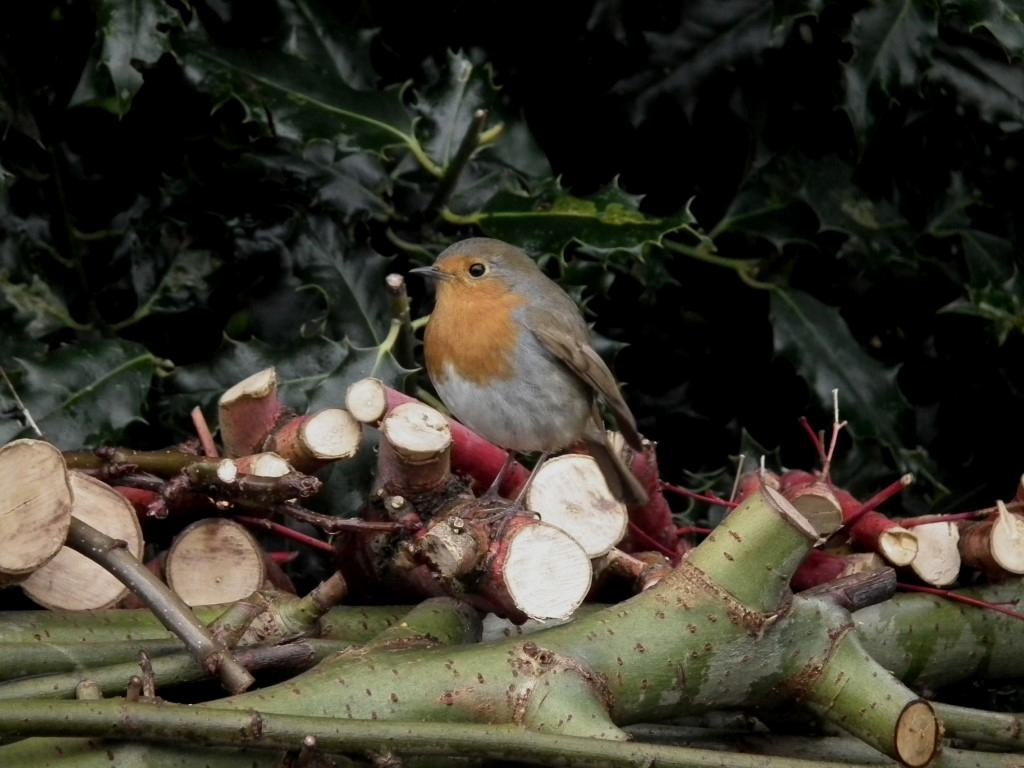ErithacusRubecula: (408, 236, 649, 507)
